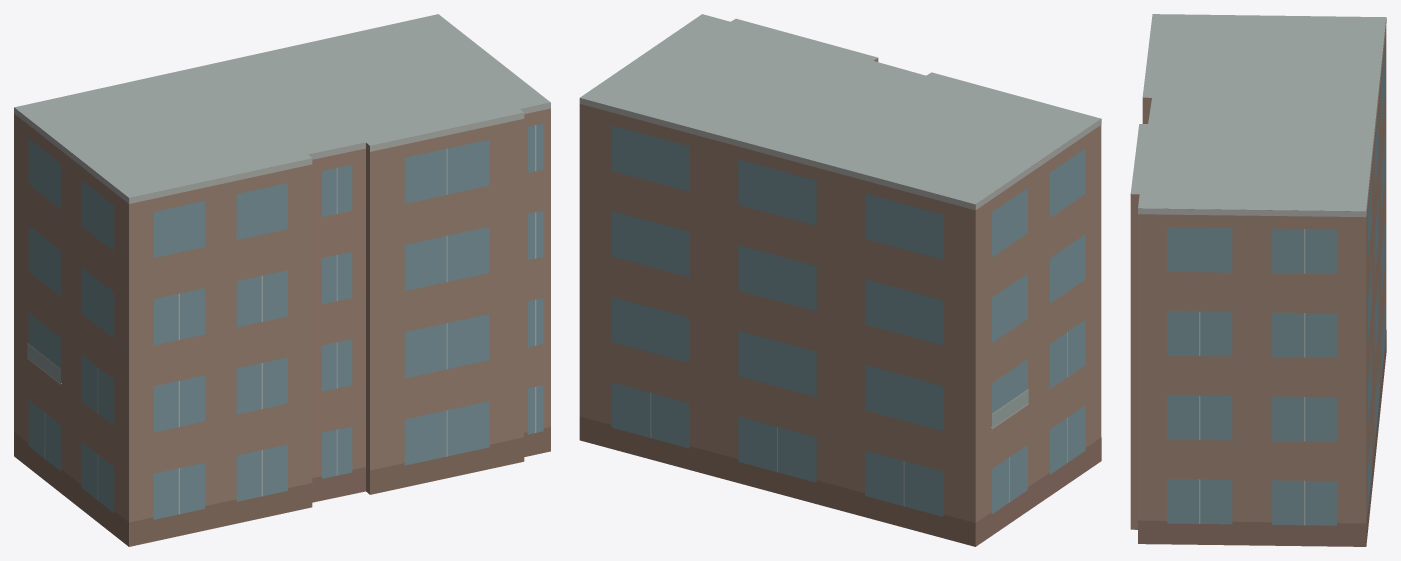
Rendered from survey-upis-32652740.glb.
The picture shows the model from 3 angles, left to right: view 1: azimuth 30°, elevation 25°; view 2: azimuth 150°, elevation 25°; view 3: azimuth 270°, elevation 25°; orthographic projection. The views are drawn at different scales.
Visible parts, largest first — view 1: survey-upis-32652740.tmp; view 2: survey-upis-32652740.tmp; view 3: survey-upis-32652740.tmp.
Boxes of the visible parts, x1,y1,x2,y2 form: survey-upis-32652740.tmp: (14, 14, 550, 546); survey-upis-32652740.tmp: (579, 14, 1101, 546); survey-upis-32652740.tmp: (1130, 14, 1386, 546).
Bounding box in the file's own units: 17.66 × 14 × 9.68.
